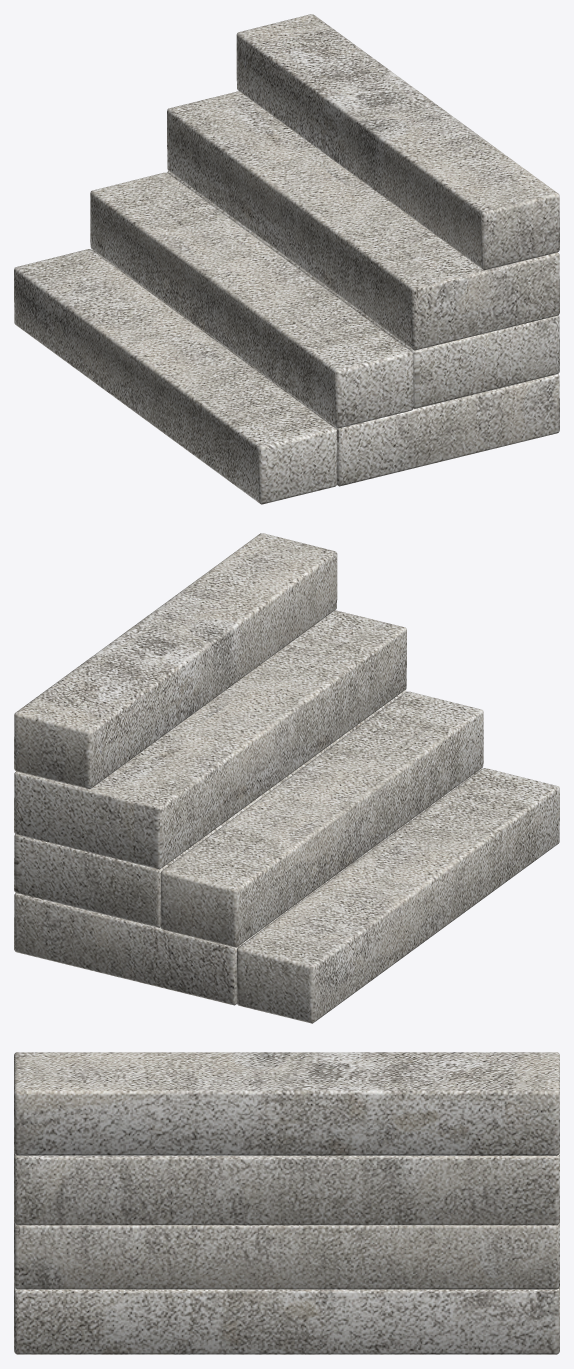
Rendered from SM_JSH_Stair.fbx.
The picture shows the model from 3 angles, top to bottom: view 1: azimuth 30°, elevation 25°; view 2: azimuth 150°, elevation 25°; view 3: azimuth 270°, elevation 25°; orthographic projection. The views are drawn at different scales.
Visible parts, largest first — view 1: SM_JSH_Stair; view 2: SM_JSH_Stair; view 3: SM_JSH_Stair.
Boxes of the visible parts, <box> form: SM_JSH_Stair: <box>14,14,559,504</box>; SM_JSH_Stair: <box>14,533,559,1023</box>; SM_JSH_Stair: <box>14,1052,559,1354</box>.
Bounding box in the file's own units: 132 × 189 × 101.
1 material, 1 textured.
